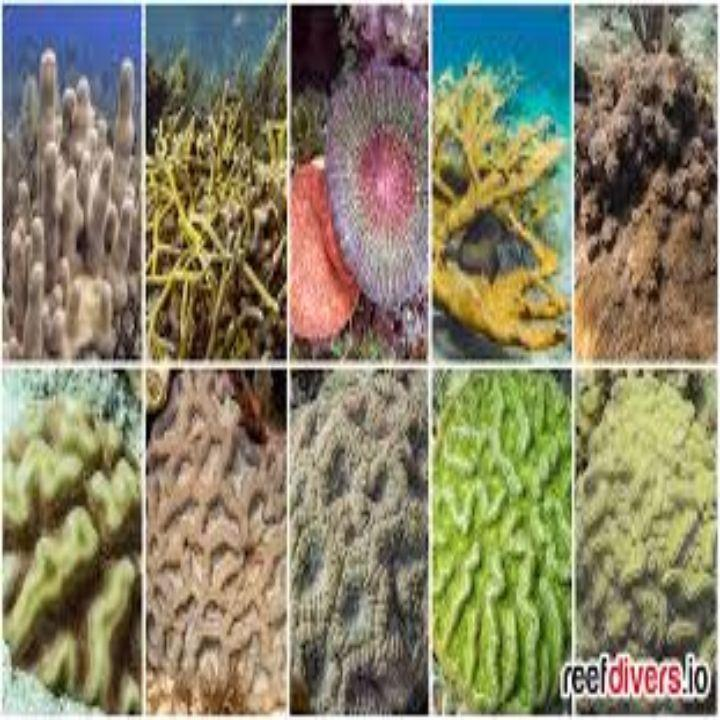Healthy Coral: (16, 55, 687, 642)
